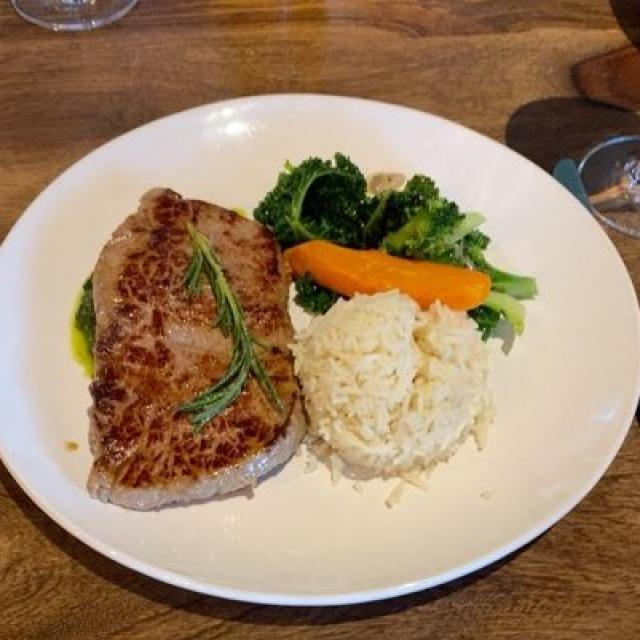beef: (74, 193, 293, 500)
butter: (70, 282, 113, 378)
carrot: (294, 240, 498, 325)
rice: (301, 298, 496, 479)
spinach: (260, 150, 524, 323)
